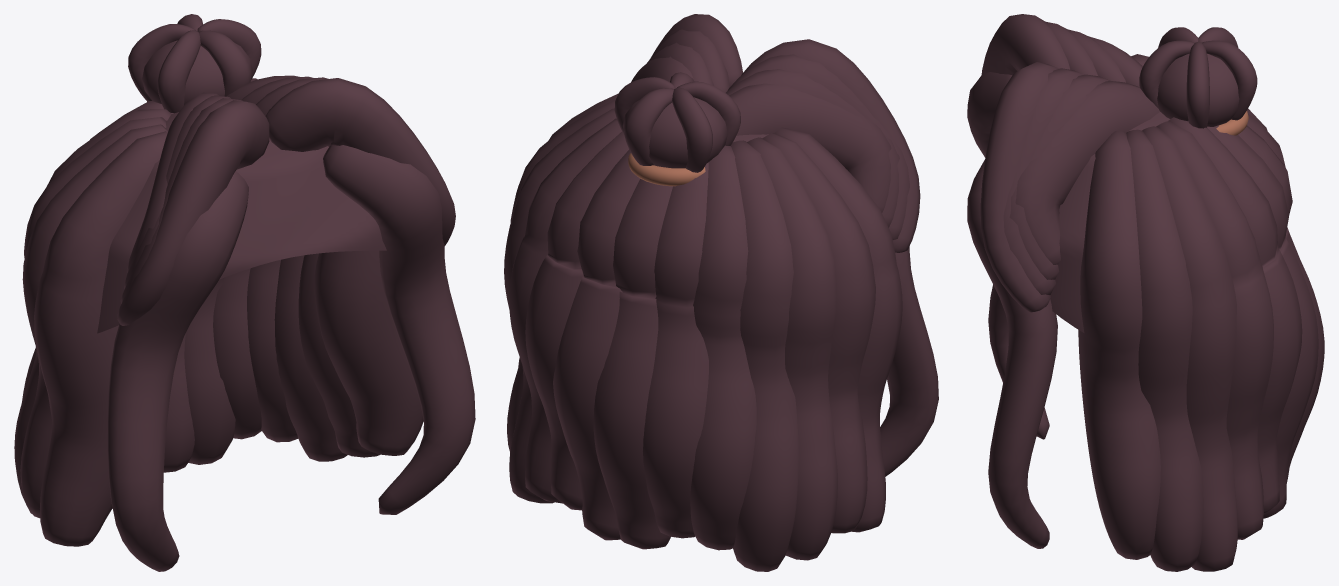
File: studio_half_bun_long.glb
The picture shows the model from 3 angles, left to right: view 1: azimuth 30°, elevation 25°; view 2: azimuth 150°, elevation 25°; view 3: azimuth 270°, elevation 25°; orthographic projection. The views are drawn at different scales.
Parts seen in each view (by area): view 1: half_bun; view 2: half_bun; view 3: half_bun.
Boxes of the visible parts, x1,y1,x2,y2 form: half_bun: (14,14,475,571); half_bun: (504,14,938,571); half_bun: (967,14,1324,571).
Bounding box in the file's own units: 0.5847 × 0.6719 × 0.4658.
